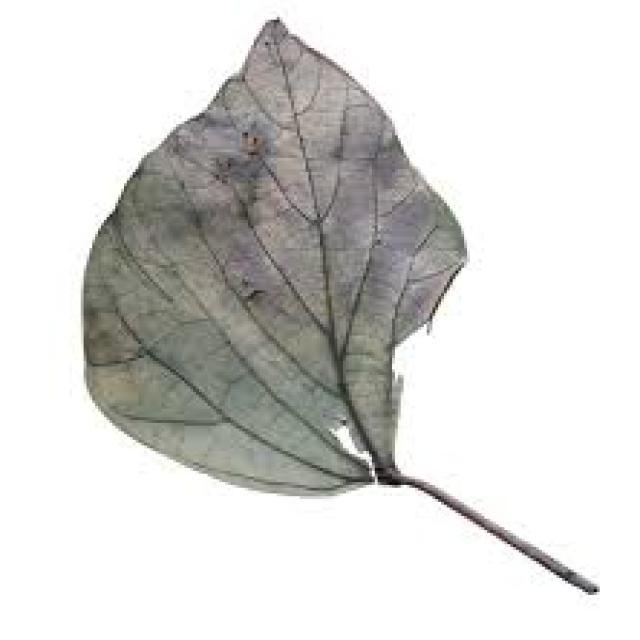leaf: (80, 15, 599, 594)
